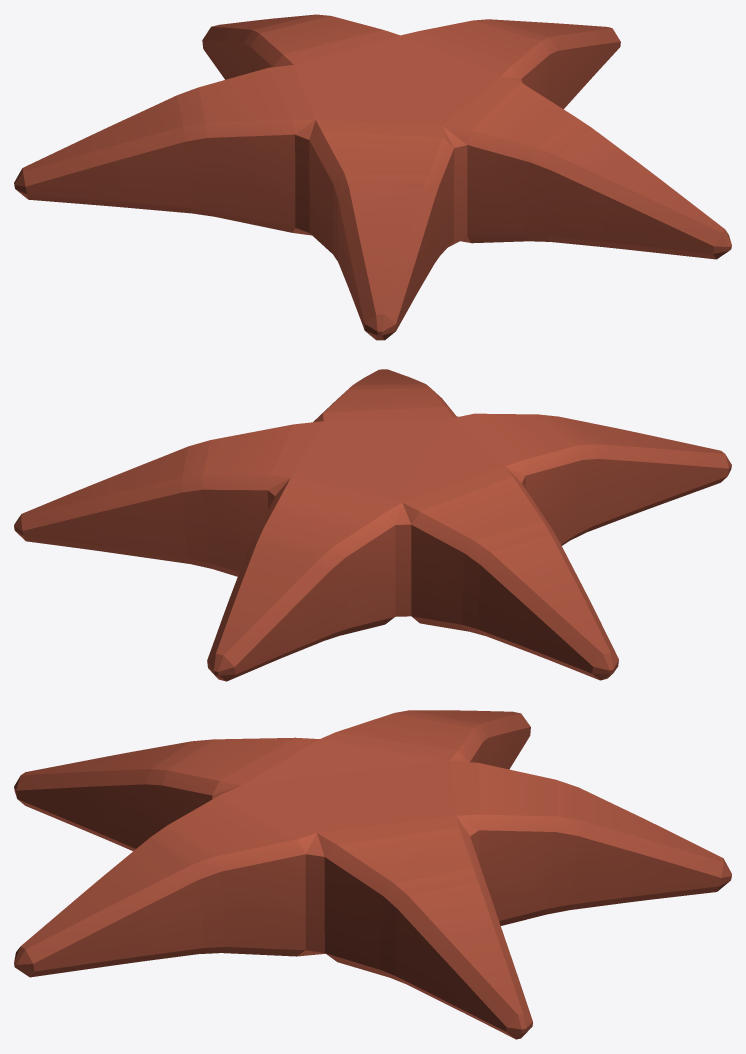
Rendered from starfish.glb.
3 views of the same model, one above another, from view 1: azimuth 30°, elevation 25°; view 2: azimuth 150°, elevation 25°; view 3: azimuth 270°, elevation 25° (orthographic). The views are drawn at different scales.
Visible parts, largest first — view 1: Cube.123; view 2: Cube.123; view 3: Cube.123.
Boxes of the visible parts, left/top/right/bottom form: Cube.123: left=14, top=14, right=731, bottom=340; Cube.123: left=14, top=369, right=731, bottom=681; Cube.123: left=14, top=710, right=731, bottom=1039.
Bounding box in the file's own units: 3.44 × 0.6341 × 3.41.
1 material, 1 textured.
